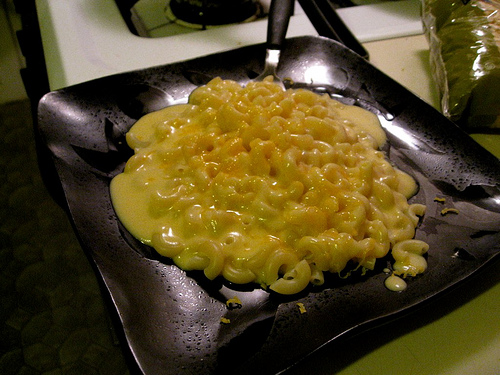macncheese: (113, 73, 426, 291)
